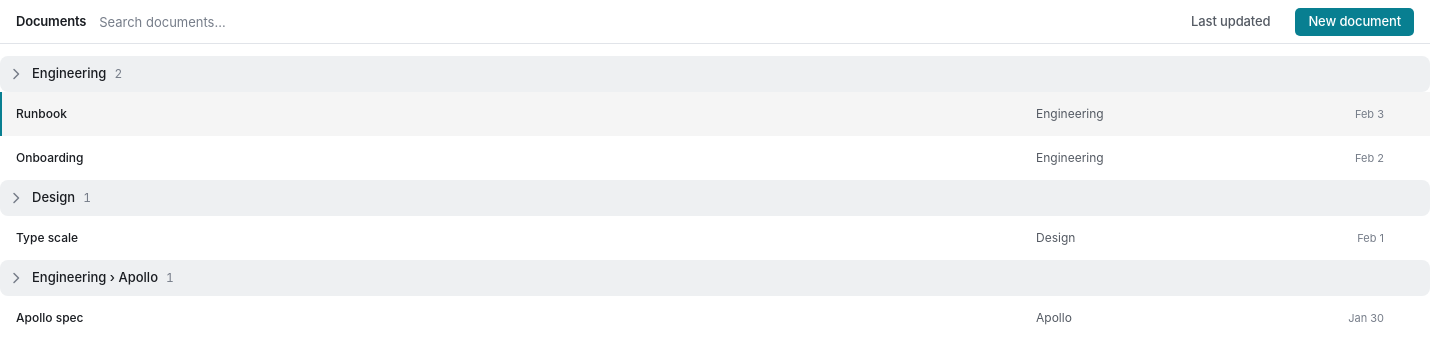
Test: Documents › filters by title as the search is typed
Type "onboard" into the field labelled "Search documents" at (632, 22), box 99,14 -> 1165,30
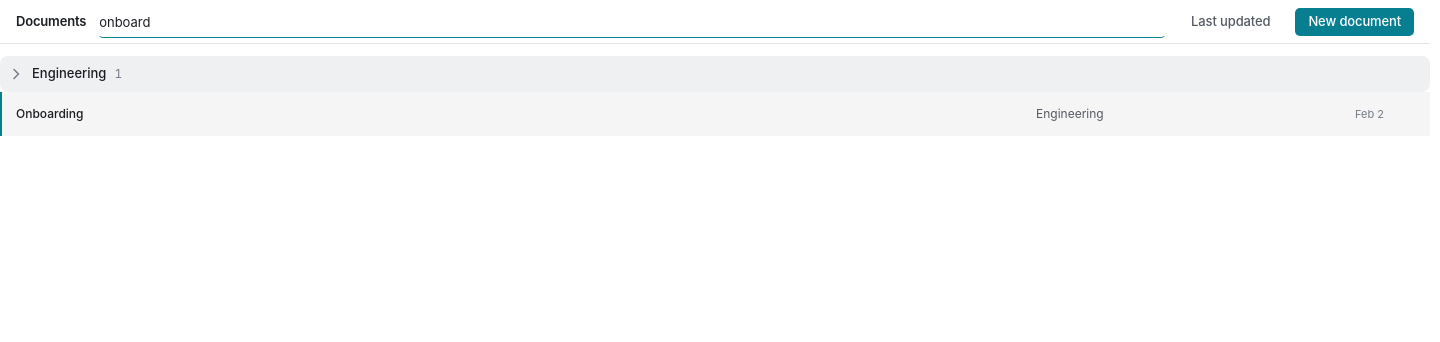
Expected: the text "Onboarding" is shown, 16,106 -> 84,121
Result: the link "Runbook" is gone
